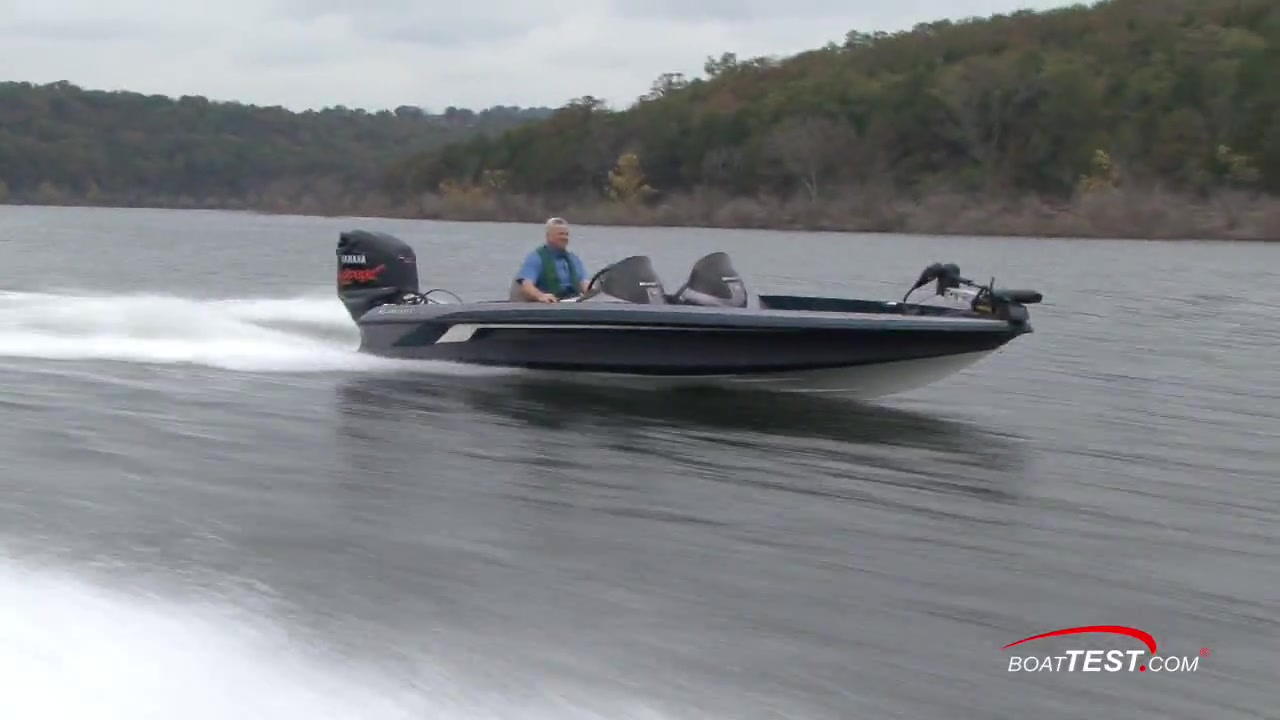boat: (331, 217, 1040, 392)
